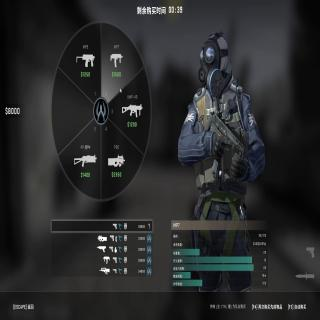CT-Head: (197, 33, 229, 87)
